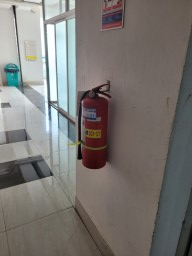fire_extinguisher: (61, 106, 127, 152)
